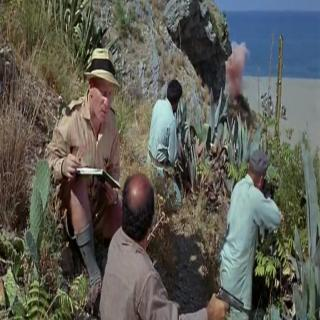gun: (210, 276, 247, 314)
